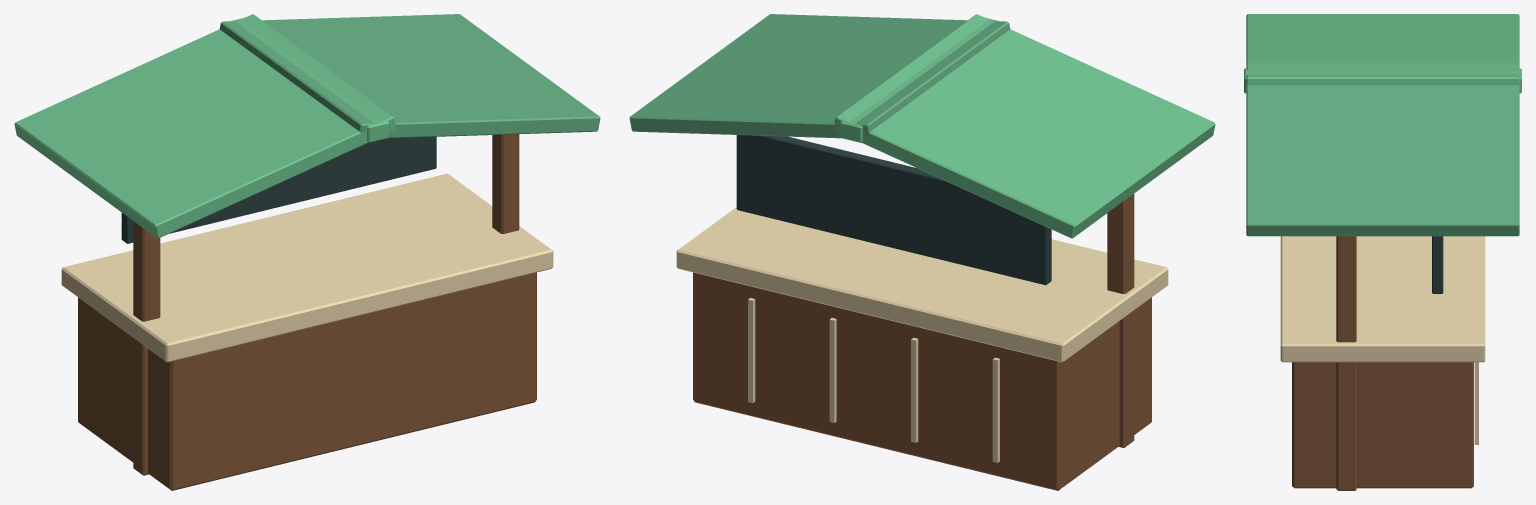
File: sell_stall.fbx
3 renders of one model, left to right at view 1: azimuth 30°, elevation 25°; view 2: azimuth 150°, elevation 25°; view 3: azimuth 270°, elevation 25°, orthographic. The views are drawn at different scales.
Parts seen in each view (by area): view 1: Counter, Countertop, RoofLeft.001, RoofRight.001, ShopSign, Upright, Upright.001, RoofRidge.001; view 2: Counter, RoofLeft.001, Countertop, RoofRight.001, ShopSign, Upright, RoofRidge.001, CounterPanel, CounterPanel.001, CounterPanel.002, CounterPanel.003; view 3: RoofRight.001, Countertop, Counter, RoofLeft.001, Upright.001, RoofRidge.001, ShopSign, CounterPanel.003.
Boxes of the visible parts, <box> form: Counter: <box>78,272,536,490</box>; Countertop: <box>61,173,553,362</box>; RoofLeft.001: <box>14,14,395,238</box>; RoofRight.001: <box>219,14,600,138</box>; ShopSign: <box>121,136,436,243</box>; Upright: <box>133,221,160,475</box>; Upright.001: <box>492,134,519,233</box>; RoofRidge.001: <box>230,17,389,142</box>; Counter: <box>693,272,1151,490</box>; RoofLeft.001: <box>834,14,1215,238</box>; Countertop: <box>676,207,1168,362</box>; RoofRight.001: <box>629,14,1010,138</box>; ShopSign: <box>736,135,1051,285</box>; Upright: <box>1107,194,1134,447</box>; RoofRidge.001: <box>840,17,999,142</box>; CounterPanel: <box>992,357,999,462</box>; CounterPanel.001: <box>911,337,918,442</box>; CounterPanel.002: <box>829,318,836,422</box>; CounterPanel.003: <box>748,298,755,402</box>; RoofRight.001: <box>1246,63,1519,236</box>; Countertop: <box>1280,236,1485,362</box>; Counter: <box>1292,362,1473,488</box>; RoofLeft.001: <box>1246,14,1519,85</box>; Upright.001: <box>1336,236,1356,490</box>; RoofRidge.001: <box>1244,68,1521,93</box>; ShopSign: <box>1432,236,1443,293</box>; CounterPanel.003: <box>1474,362,1478,444</box>.
Size of the model in its own units: 1094 by 806 by 610.
